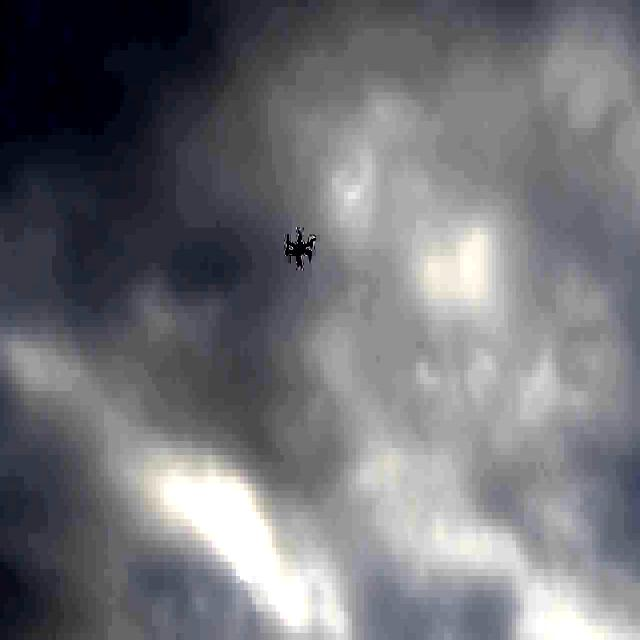drone: (285, 225, 319, 270)
